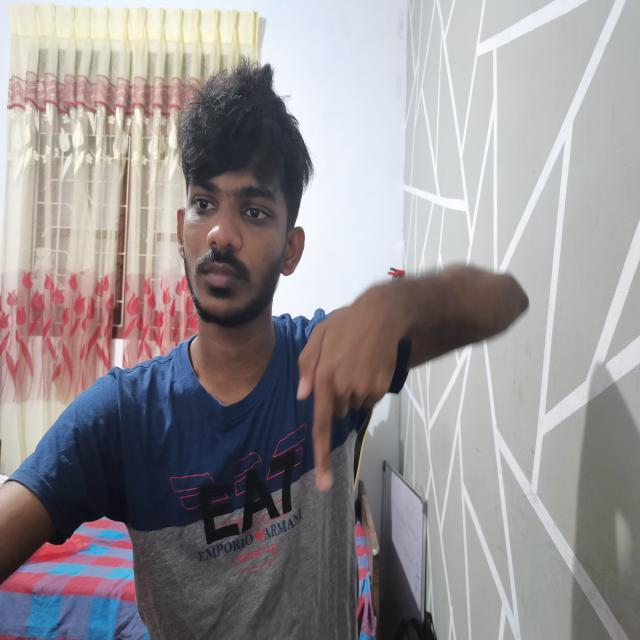Yes: (291, 267, 424, 498)
